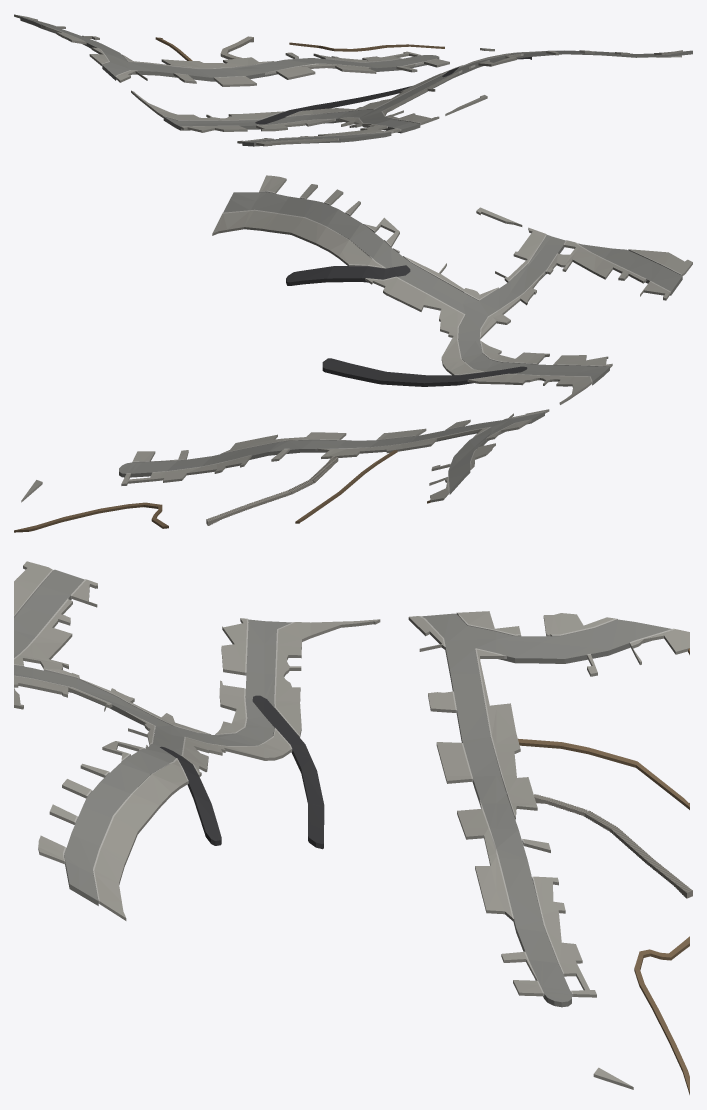
3 views of the same model, one above another, from view 1: azimuth 30°, elevation 25°; view 2: azimuth 150°, elevation 25°; view 3: azimuth 270°, elevation 25° (orthographic). The views are drawn at different scales.
Size of the model in its own units: 147 by 60.91 by 146.
